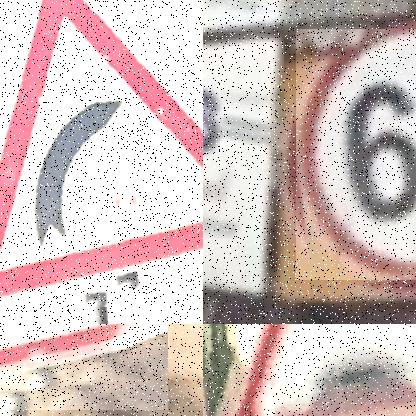Speed Breaker Ahead: (212, 324, 416, 416)
Speed Limit -60 kmph-: (284, 30, 416, 295), (296, 29, 416, 280)
